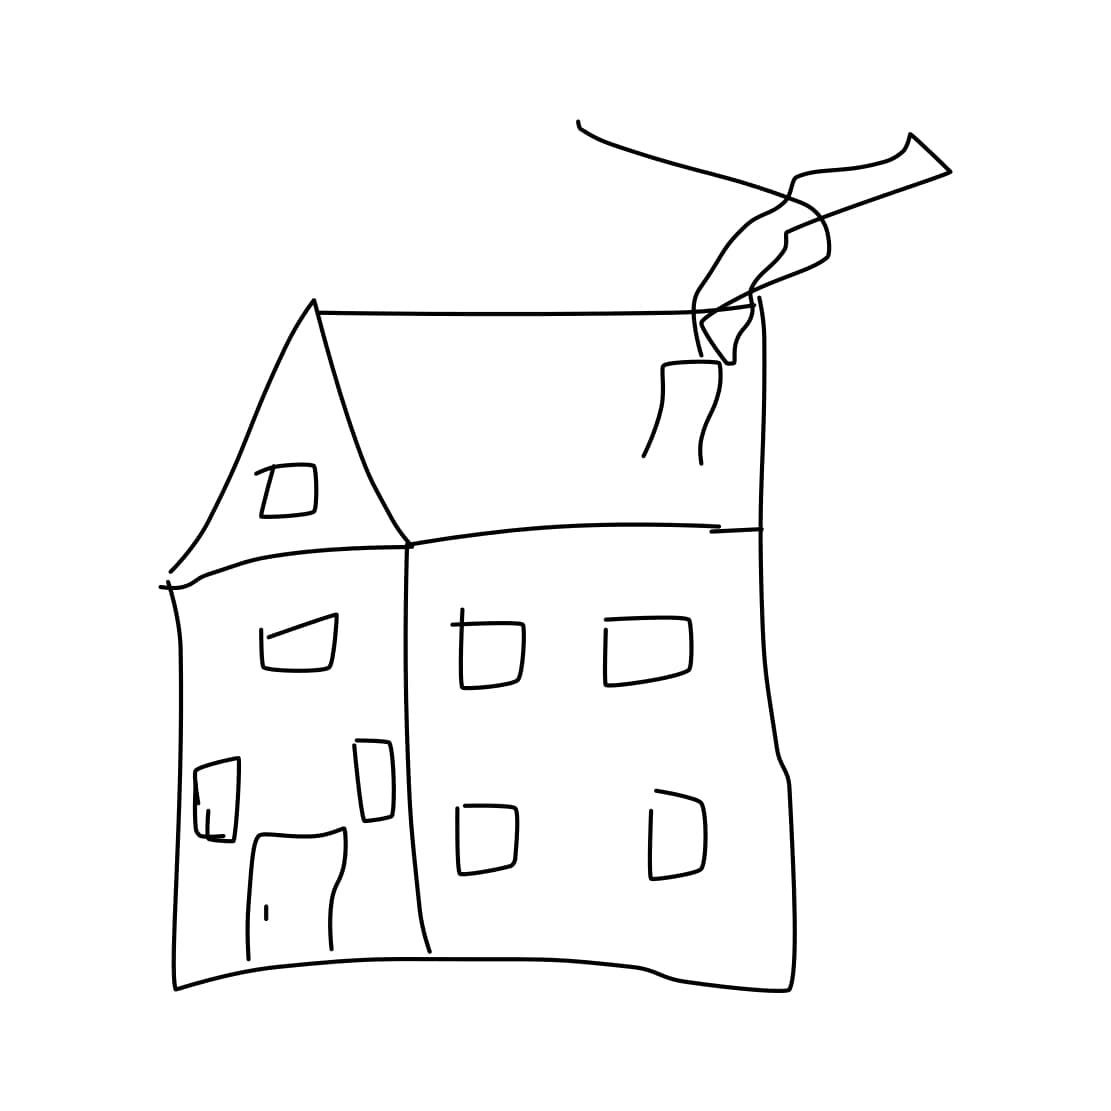House: (103, 228, 865, 1011)
